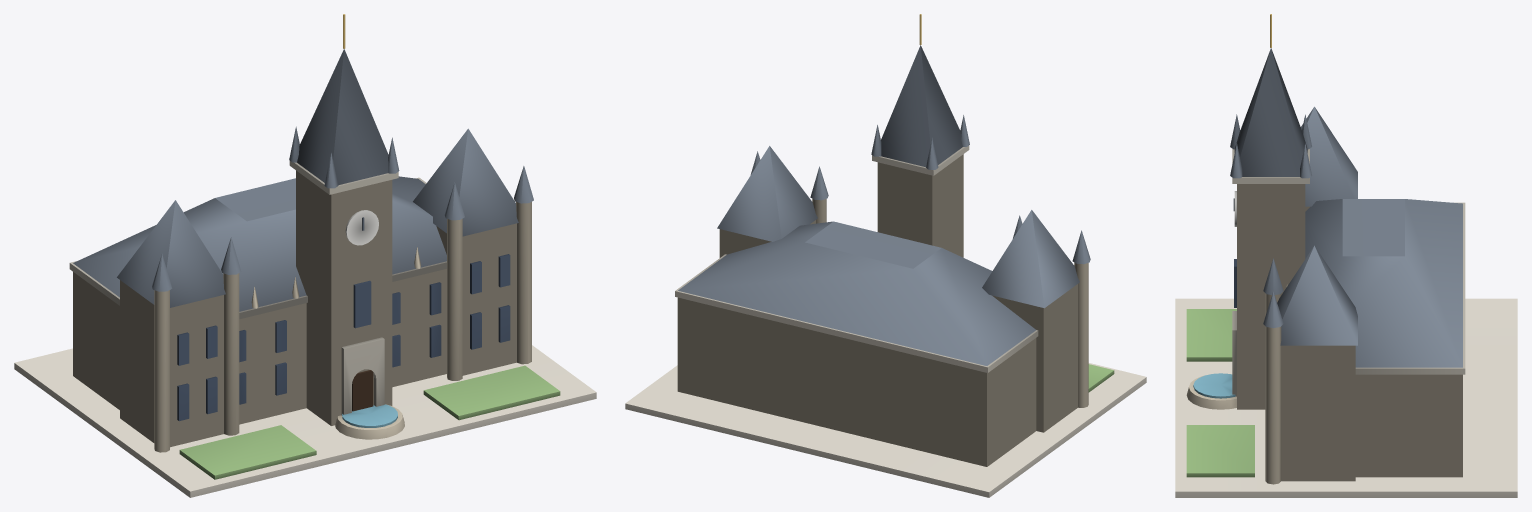
Rendered from iasi.glb.
3 views of the same model, side by side, from view 1: azimuth 30°, elevation 25°; view 2: azimuth 150°, elevation 25°; view 3: azimuth 270°, elevation 25° (orthographic). The views are drawn at different scales.
Visible parts, largest first — view 1: iasi_stone, iasi_roofSlate, iasi_stoneLight, iasi_grass, iasi_window, iasi_stoneGray, iasi_water, iasi_white, iasi_woodDark; view 2: iasi_stone, iasi_roofSlate, iasi_stoneLight, iasi_stoneGray; view 3: iasi_roofSlate, iasi_stone, iasi_stoneLight, iasi_grass, iasi_stoneGray, iasi_water.
Boxes of the visible parts, x1,y1,x2,y2 form: iasi_stone: (73, 170, 531, 452); iasi_roofSlate: (73, 49, 533, 311); iasi_stoneLight: (14, 345, 596, 497); iasi_grass: (179, 365, 560, 479); iasi_window: (177, 254, 510, 421); iasi_stoneGray: (69, 161, 446, 415); iasi_water: (342, 404, 397, 427); iasi_white: (345, 210, 378, 245); iasi_woodDark: (352, 370, 373, 411); iasi_stone: (677, 154, 1088, 466); iasi_roofSlate: (678, 45, 1090, 365); iasi_stoneLight: (625, 363, 1146, 497); iasi_stoneGray: (675, 145, 1038, 372); iasi_roofSlate: (1230, 48, 1462, 367); iasi_stone: (1186, 184, 1462, 484); iasi_stoneLight: (1175, 298, 1517, 497); iasi_grass: (1186, 309, 1254, 477); iasi_stoneGray: (1232, 149, 1465, 396); iasi_water: (1193, 373, 1235, 398).
Bounding box in the file's own units: 2 × 1.87 × 1.5.
